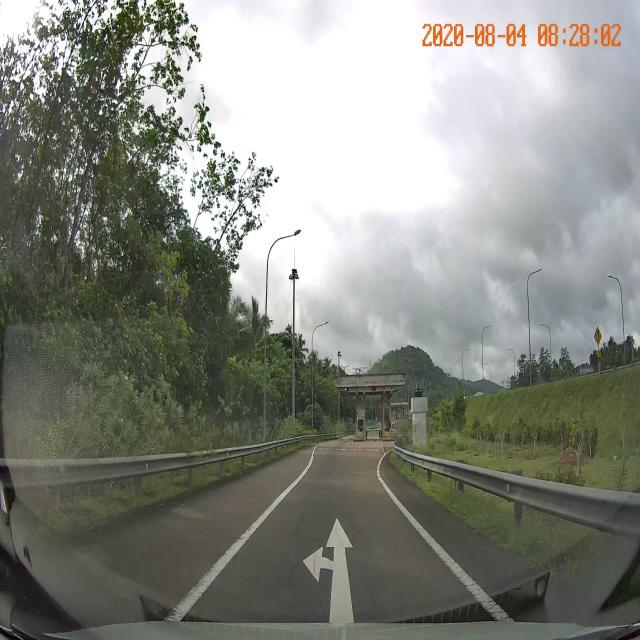forward_lft: (166, 477, 516, 618)
